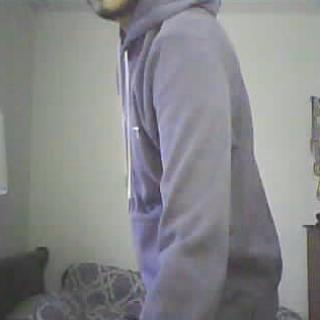Blue Hoodie: (120, 0, 280, 320)
